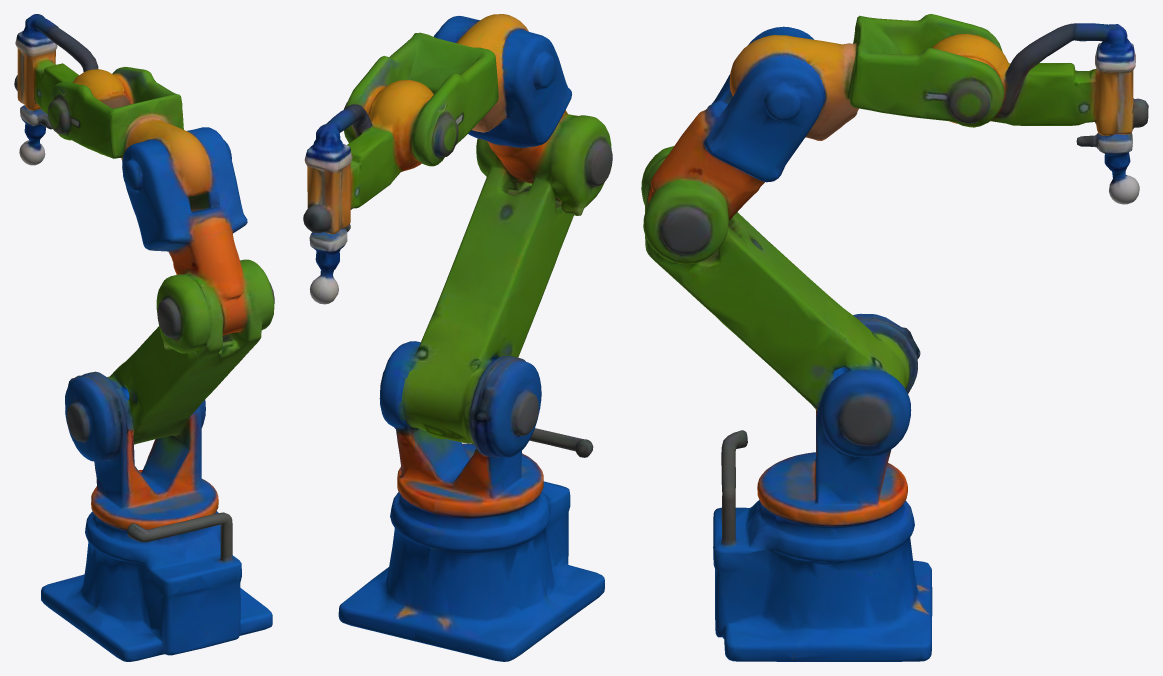
Rendered from industrial_robot_arm.glb.
3 views of the same model, side by side, from view 1: azimuth 30°, elevation 25°; view 2: azimuth 150°, elevation 25°; view 3: azimuth 270°, elevation 25° (orthographic). The views are drawn at different scales.
Visible parts, largest first — view 1: tripo_node_64335dd6-16c8-4fc5-9668-135e22a1bdc3; view 2: tripo_node_64335dd6-16c8-4fc5-9668-135e22a1bdc3; view 3: tripo_node_64335dd6-16c8-4fc5-9668-135e22a1bdc3.
Part boxes in pixels (<box>): tripo_node_64335dd6-16c8-4fc5-9668-135e22a1bdc3: <box>14,14,274,661</box>; tripo_node_64335dd6-16c8-4fc5-9668-135e22a1bdc3: <box>303,14,612,661</box>; tripo_node_64335dd6-16c8-4fc5-9668-135e22a1bdc3: <box>641,14,1148,661</box>.
Bounding box in the file's own units: 0.2948 × 0.9436 × 0.7258.
1 material, 1 textured.
